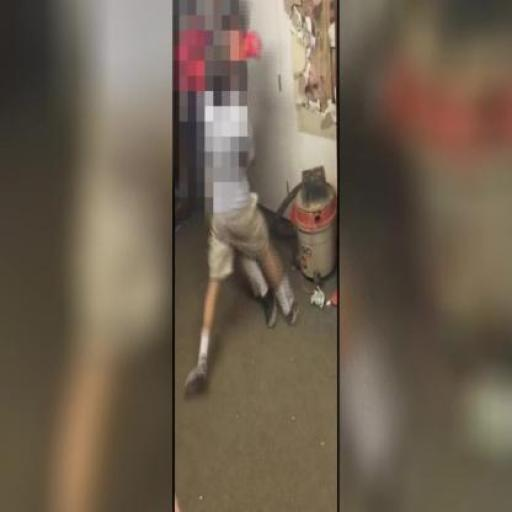Fighting: (182, 2, 336, 399)
